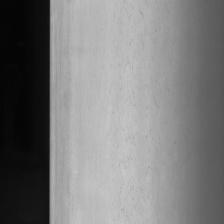silk_spot: (106, 11, 174, 224)
